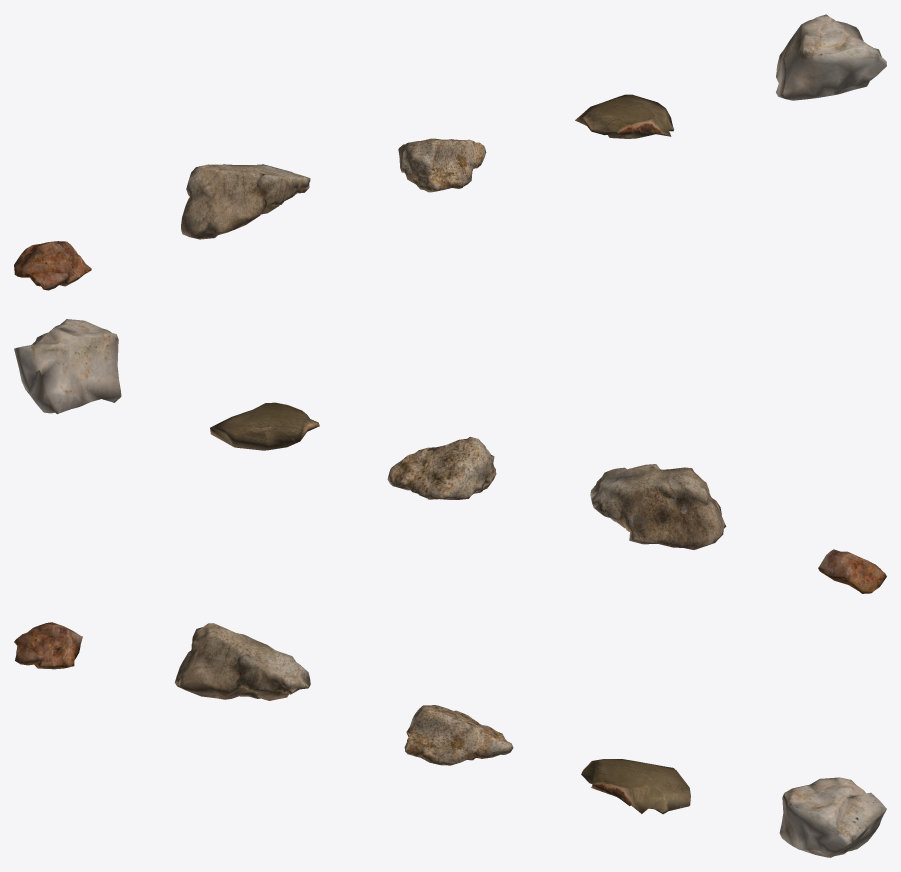
The model's file is stones.glb.
3 views of the same model, one above another, from view 1: azimuth 30°, elevation 25°; view 2: azimuth 150°, elevation 25°; view 3: azimuth 330°, elevation 25° (orthographic).
Bounding box in the file's own units: 1.02 × 0.0833 × 0.1119.
1 material, 1 textured.
